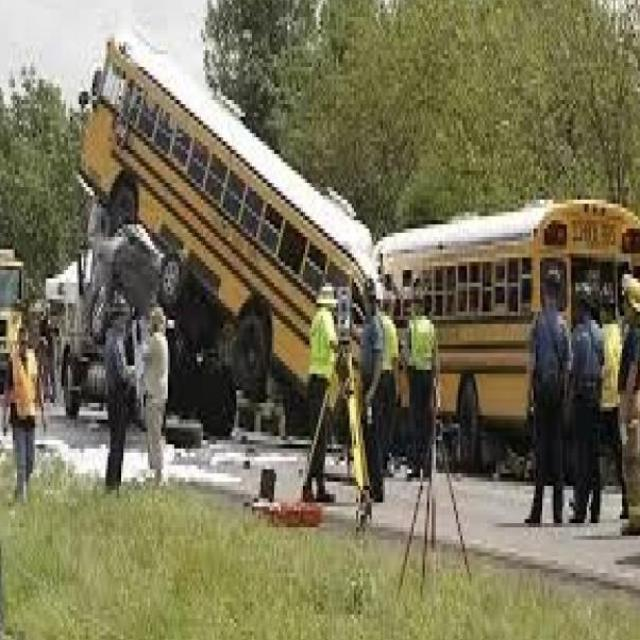accident: (63, 66, 411, 450)
